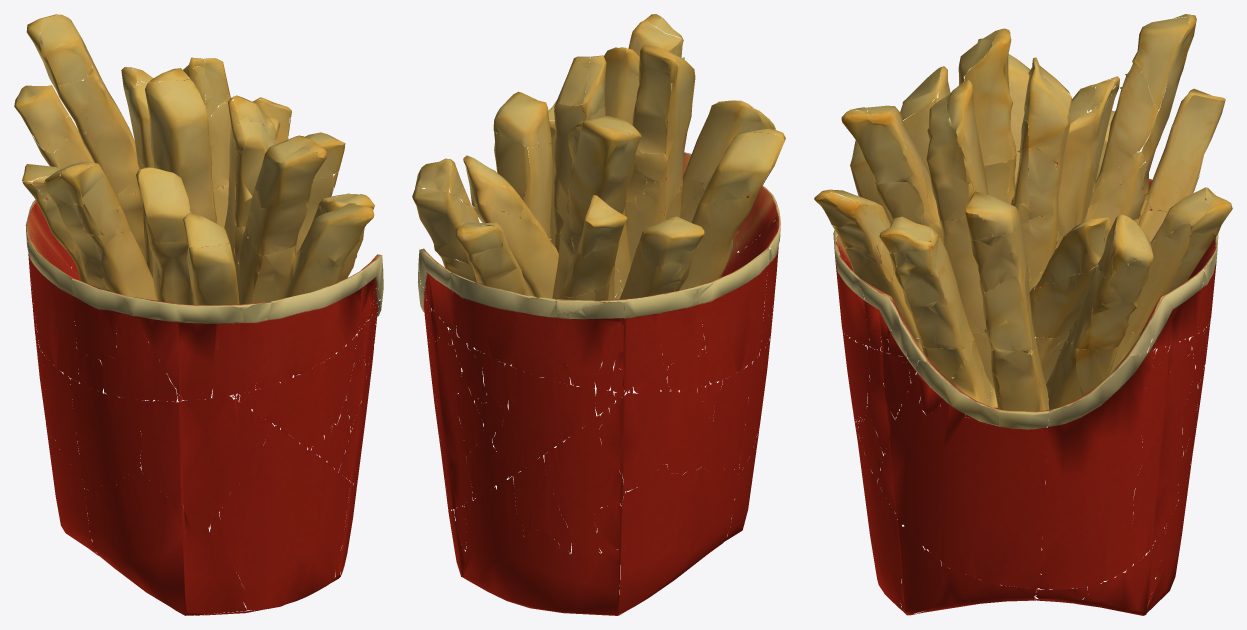
File: fries.glb
3 renders of one model, left to right at view 1: azimuth 30°, elevation 25°; view 2: azimuth 150°, elevation 25°; view 3: azimuth 270°, elevation 25°, orthographic. The views are drawn at different scales.
Visible parts, largest first — view 1: tripo_node_cb7dcddd-6c7b-4c50-8a9f-567f60d1e3a5; view 2: tripo_node_cb7dcddd-6c7b-4c50-8a9f-567f60d1e3a5; view 3: tripo_node_cb7dcddd-6c7b-4c50-8a9f-567f60d1e3a5.
Part boxes in pixels (left/top/right/bottom): tripo_node_cb7dcddd-6c7b-4c50-8a9f-567f60d1e3a5: left=14, top=14, right=383, bottom=615; tripo_node_cb7dcddd-6c7b-4c50-8a9f-567f60d1e3a5: left=412, top=14, right=785, bottom=615; tripo_node_cb7dcddd-6c7b-4c50-8a9f-567f60d1e3a5: left=814, top=14, right=1232, bottom=615.
Bounding box in the file's own units: 0.6395 × 0.98 × 0.7102.
Materials: 1 (1 with a texture image).
